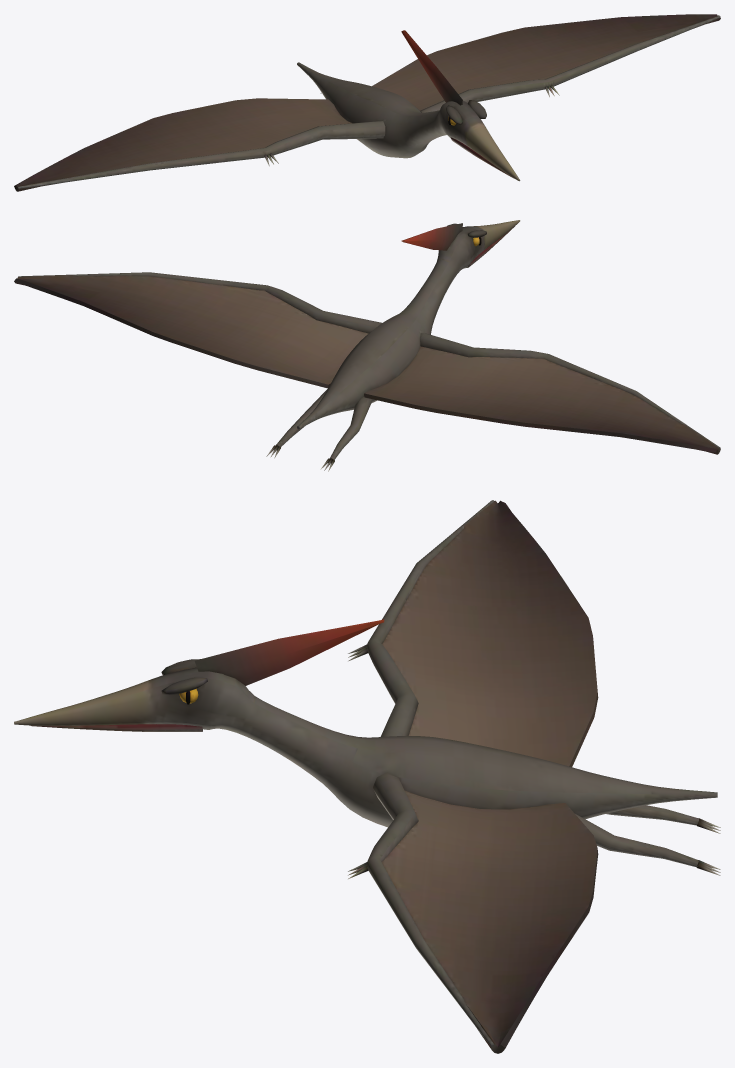
The model's file is pteranodon.glb.
3 views of the same model, one above another, from view 1: azimuth 30°, elevation 25°; view 2: azimuth 150°, elevation 25°; view 3: azimuth 270°, elevation 25° (orthographic). The views are drawn at different scales.
Visible parts, largest first — view 1: Pteranodon; view 2: Pteranodon; view 3: Pteranodon.
Part boxes in pixels (x1=…): Pteranodon: x1=14, y1=14, x2=720, y2=191; Pteranodon: x1=14, y1=220, x2=720, y2=471; Pteranodon: x1=14, y1=500, x2=720, y2=1053.
Bounding box in the file's own units: 7.81 × 1.55 × 4.28.
Materials: 1 (1 with a texture image).
